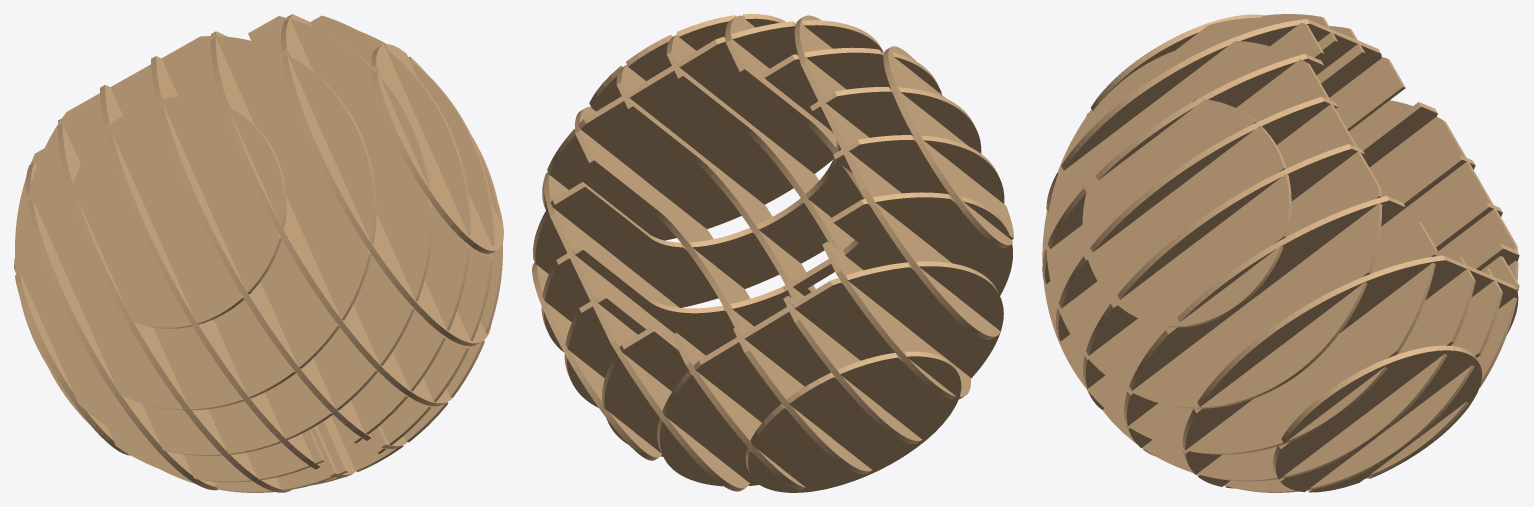
Rendered from samla.glb.
The picture shows the model from 3 angles, left to right: view 1: azimuth 30°, elevation 25°; view 2: azimuth 150°, elevation 25°; view 3: azimuth 270°, elevation 25°; orthographic projection.
Parts seen in each view (by area): view 1: slicer-n4s; view 2: slicer-n4s; view 3: slicer-n4s.
Part boxes in pixels (x1=…): slicer-n4s: x1=14, y1=14, x2=503, y2=492; slicer-n4s: x1=532, y1=14, x2=1013, y2=492; slicer-n4s: x1=1042, y1=14, x2=1519, y2=492.
Size of the model in its own units: 0.2406 by 0.2403 by 0.2391.
